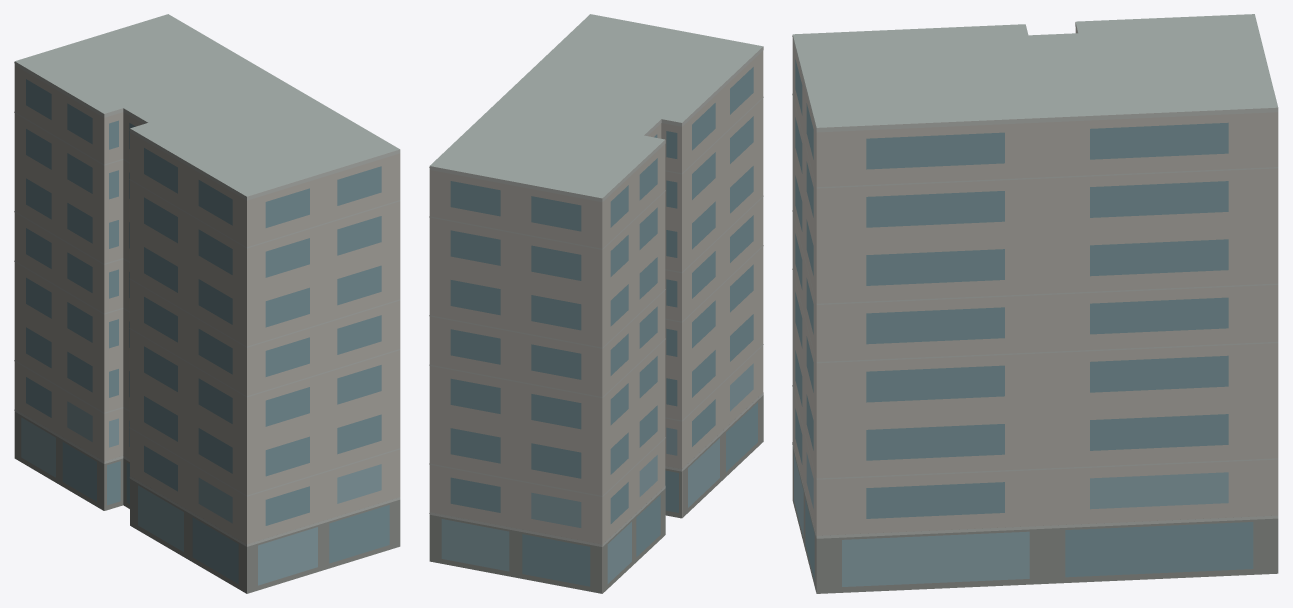
Rendered from survey-upis-32979513.glb.
The picture shows the model from 3 angles, left to right: view 1: azimuth 30°, elevation 25°; view 2: azimuth 150°, elevation 25°; view 3: azimuth 270°, elevation 25°; orthographic projection. The views are drawn at different scales.
Visible parts, largest first — view 1: survey-upis-32979513.tmp; view 2: survey-upis-32979513.tmp; view 3: survey-upis-32979513.tmp.
Part boxes in pixels (left/top/right/bottom): survey-upis-32979513.tmp: left=14, top=14, right=400, bottom=593; survey-upis-32979513.tmp: left=429, top=14, right=763, bottom=593; survey-upis-32979513.tmp: left=792, top=14, right=1278, bottom=593.
Bounding box in the file's own units: 12.92 × 24.6 × 23.26.
